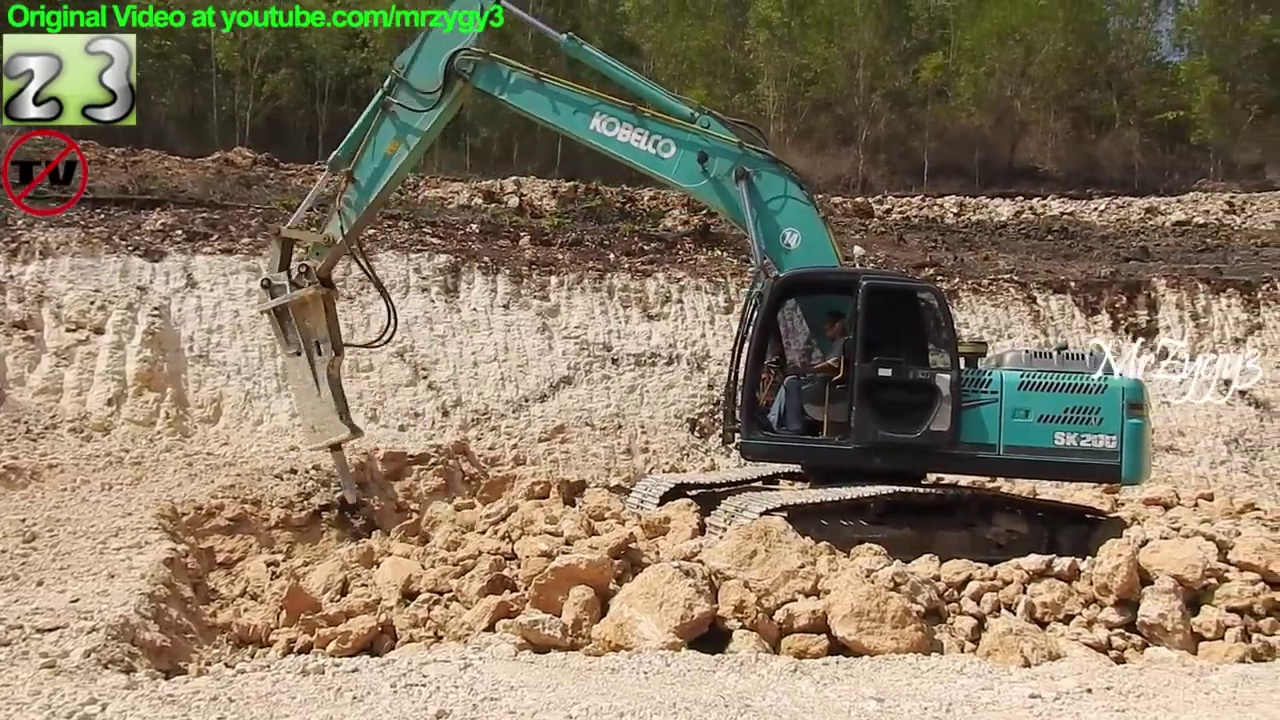excavator breaker: (253, 1, 1154, 568)
